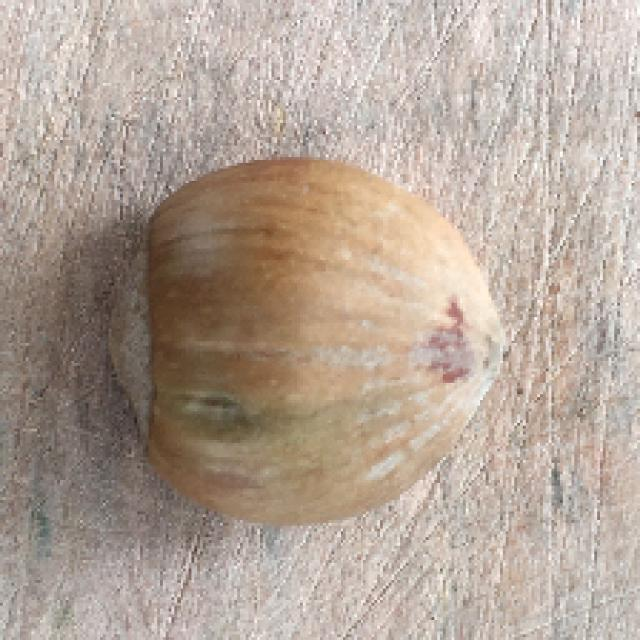qualityHazelnut: (106, 157, 524, 520)
